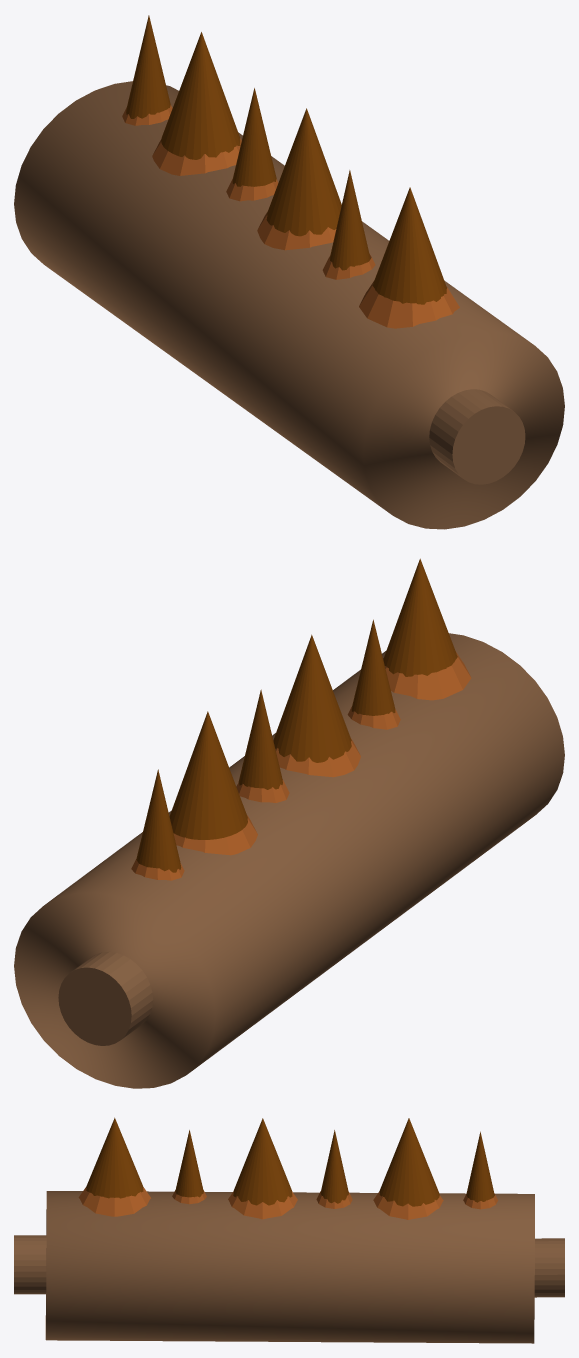
File: obstacle.fbx
3 renders of one model, top to bottom at view 1: azimuth 30°, elevation 25°; view 2: azimuth 150°, elevation 25°; view 3: azimuth 270°, elevation 25°, orthographic. The views are drawn at different scales.
Visible parts, largest first — view 1: Cylinder, Cylinder.001, Cone.005, Cone.003, Cone.001, Cone.006, Circle.003, Cone.004, Cone.002, Circle.006, Circle.001, Circle.005; view 2: Cylinder, Cylinder.002, Cone.005, Cone.003, Cone.001, Cone.006, Cone.004, Cone.002, Circle.003, Circle.001, Circle.006, Circle.005 (+1 smaller); view 3: Cylinder, Cone.005, Cone.003, Cone.001, Cylinder.001, Cylinder.002, Circle.003, Cone.004, Cone.006, Cone.002, Circle.001, Circle.006 (+1 smaller).
Part boxes in pixels (bbox=[...]): Cylinder: bbox=[14, 81, 564, 529]; Cylinder.001: bbox=[429, 389, 525, 484]; Cone.005: bbox=[161, 32, 240, 159]; Cone.003: bbox=[266, 108, 341, 236]; Cone.001: bbox=[372, 187, 446, 304]; Cone.006: bbox=[126, 15, 170, 118]; Circle.003: bbox=[359, 280, 459, 328]; Cone.004: bbox=[232, 88, 276, 186]; Cone.002: bbox=[329, 170, 370, 270]; Circle.006: bbox=[152, 138, 241, 175]; Circle.001: bbox=[257, 212, 336, 250]; Circle.005: bbox=[226, 178, 278, 201]; Cylinder: bbox=[14, 633, 564, 1088]; Cylinder.002: bbox=[58, 952, 153, 1045]; Cone.005: bbox=[169, 711, 247, 839]; Cone.003: bbox=[273, 634, 351, 762]; Cone.001: bbox=[383, 558, 457, 676]; Cone.006: bbox=[136, 769, 181, 872]; Cone.004: bbox=[238, 689, 282, 789]; Cone.002: bbox=[351, 619, 395, 715]; Circle.003: bbox=[383, 652, 471, 700]; Circle.001: bbox=[273, 738, 360, 777]; Circle.006: bbox=[173, 815, 257, 855]; Circle.005: bbox=[236, 779, 289, 802]; Cylinder: bbox=[45, 1191, 534, 1343]; Cone.005: bbox=[379, 1118, 439, 1206]; Cone.003: bbox=[233, 1118, 292, 1205]; Cone.001: bbox=[86, 1117, 143, 1198]; Cylinder.001: bbox=[14, 1235, 46, 1294]; Cylinder.002: bbox=[534, 1238, 564, 1297]; Circle.003: bbox=[78, 1187, 150, 1216]; Cone.004: bbox=[320, 1130, 348, 1203]; Cone.006: bbox=[466, 1131, 494, 1202]; Cone.002: bbox=[175, 1130, 203, 1197]; Circle.001: bbox=[228, 1191, 297, 1219]; Circle.006: bbox=[373, 1191, 443, 1219].
Bounding box in the file's own units: 190 × 279 × 644.
